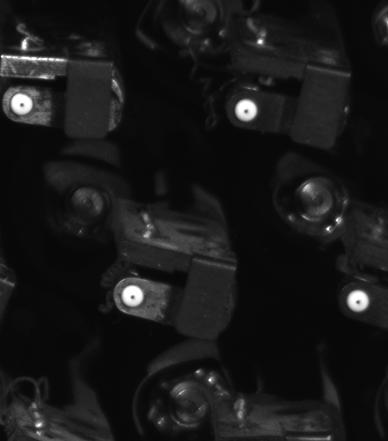fiber: (339, 285, 375, 318), (7, 91, 40, 124), (118, 281, 152, 311), (228, 94, 263, 123)
